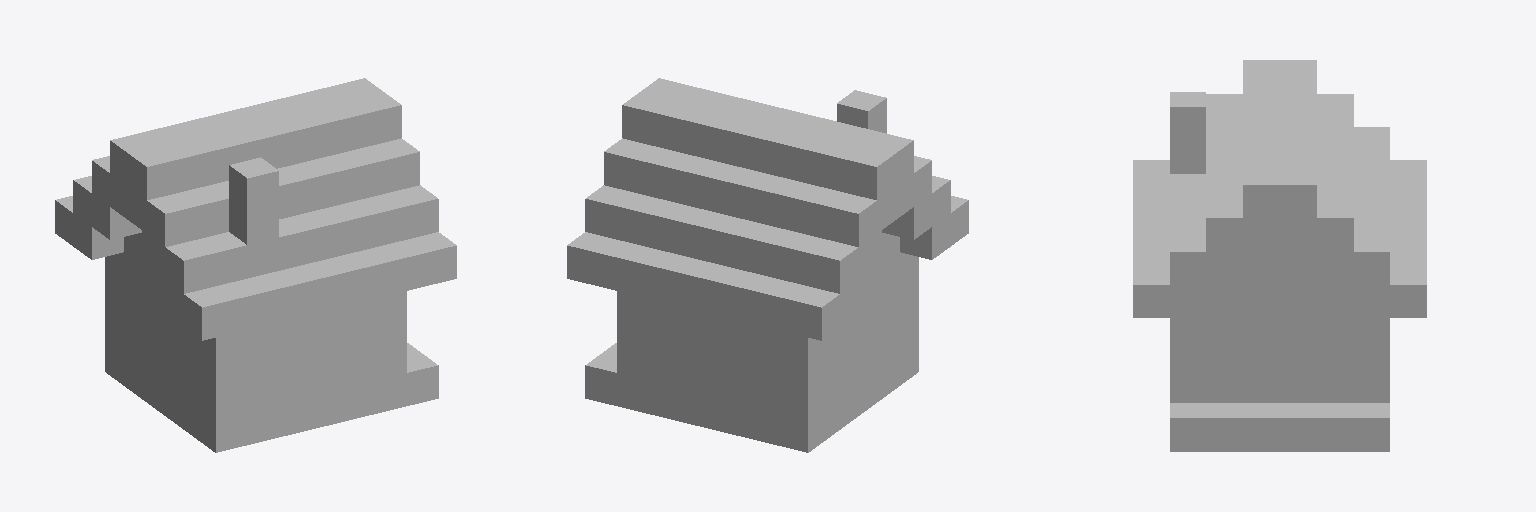
File: house.obj
3 renders of one model, left to right at view 1: azimuth 30°, elevation 25°; view 2: azimuth 150°, elevation 25°; view 3: azimuth 270°, elevation 25°, orthographic.
Parts seen in each view (by area): view 1: house; view 2: house; view 3: house.
Boxes of the visible parts, x1,y1,x2,y2 form: house: [55, 78, 456, 452]; house: [567, 78, 968, 452]; house: [1133, 60, 1426, 451].
Bounding box in the file's own units: 8 × 8 × 8.